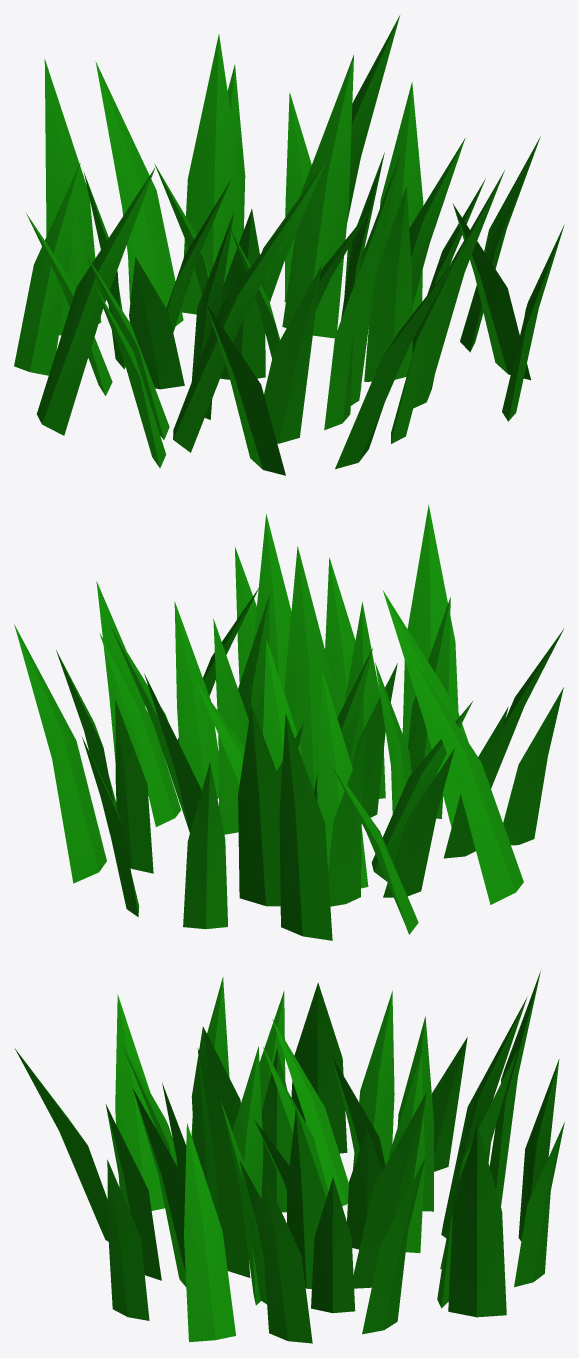
File: grass.fbx
3 views of the same model, one above another, from view 1: azimuth 30°, elevation 25°; view 2: azimuth 150°, elevation 25°; view 3: azimuth 270°, elevation 25° (orthographic). The views are drawn at different scales.
Parts seen in each view (by area): view 1: grass; view 2: grass; view 3: grass.
Part boxes in pixels (x1=…): grass: x1=14, y1=15, x2=564, y2=475; grass: x1=14, y1=505, x2=563, y2=940; grass: x1=14, y1=970, x2=564, y2=1343.
Bounding box in the file's own units: 2.31 × 1.21 × 2.52.
